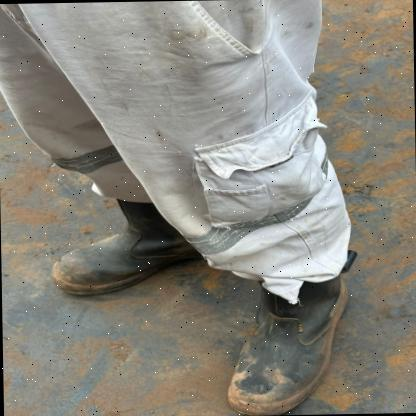bota: (217, 255, 358, 415), (37, 201, 194, 297)
